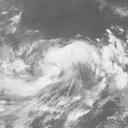cyclone: (40, 41, 103, 100)
